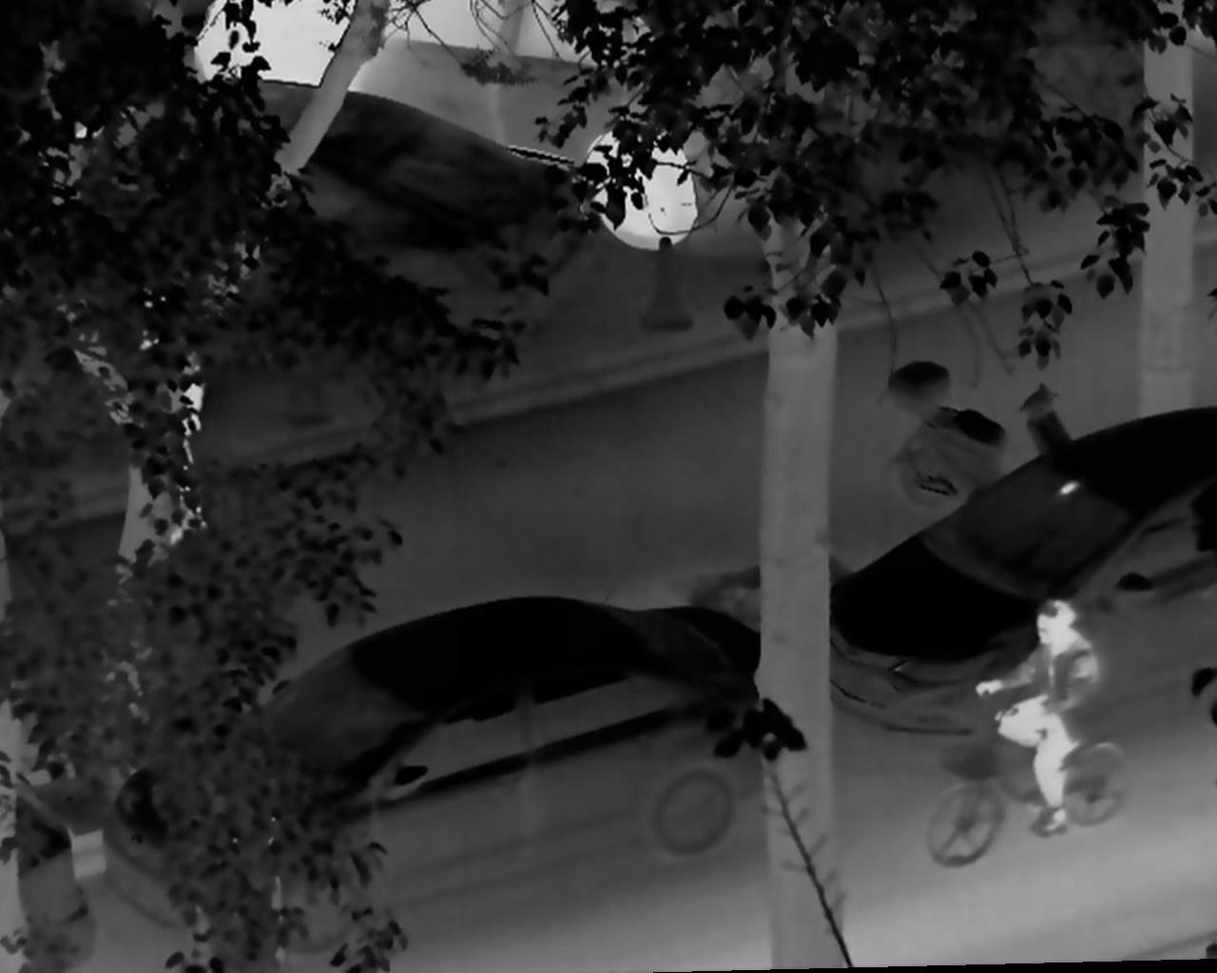person: (975, 592, 1101, 835), (143, 296, 213, 552)
